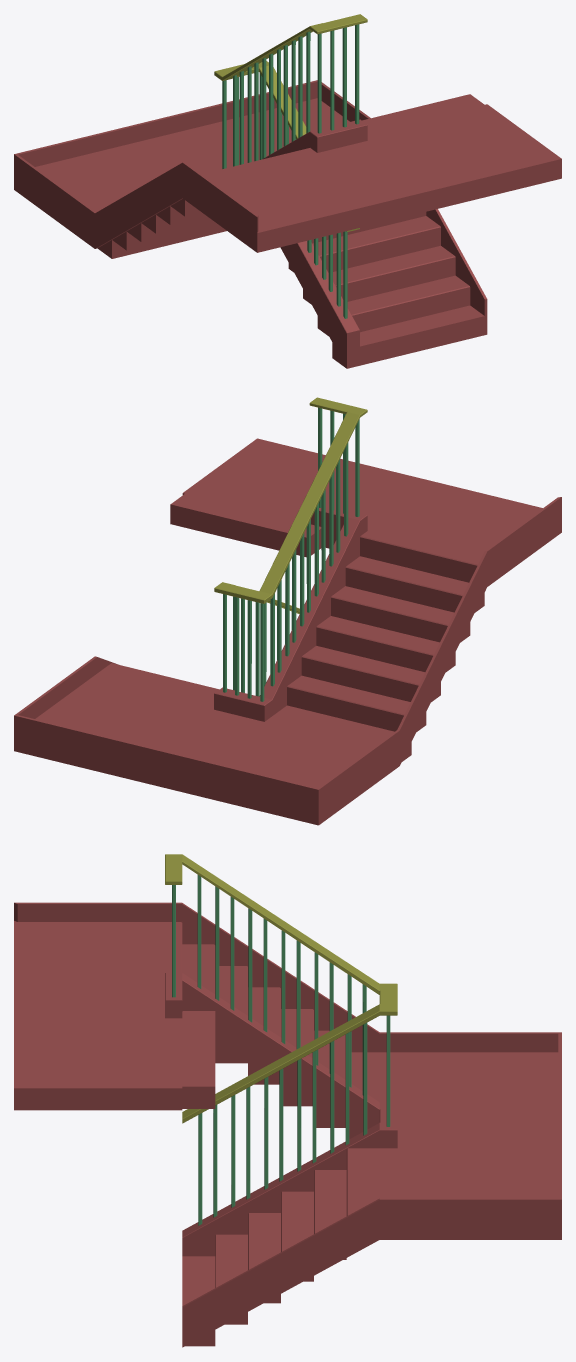
File: Staircase_Set_Unwrapped_CC.FBX
3 views of the same model, one above another, from view 1: azimuth 30°, elevation 25°; view 2: azimuth 150°, elevation 25°; view 3: azimuth 270°, elevation 25° (orthographic). The views are drawn at different scales.
Parts seen in each view (by area): view 1: Staircase000; view 2: Staircase000; view 3: Staircase000.
Boxes of the visible parts, bbox=[...] form: Staircase000: bbox=[14, 14, 561, 368]; Staircase000: bbox=[14, 397, 561, 825]; Staircase000: bbox=[14, 854, 561, 1347].
Bounding box in the file's own units: 4.17 × 4.6 × 5.77.
